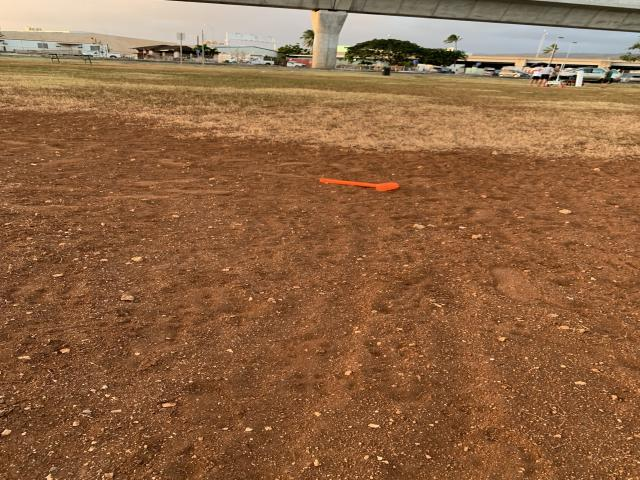hammer: (320, 177, 400, 193)
